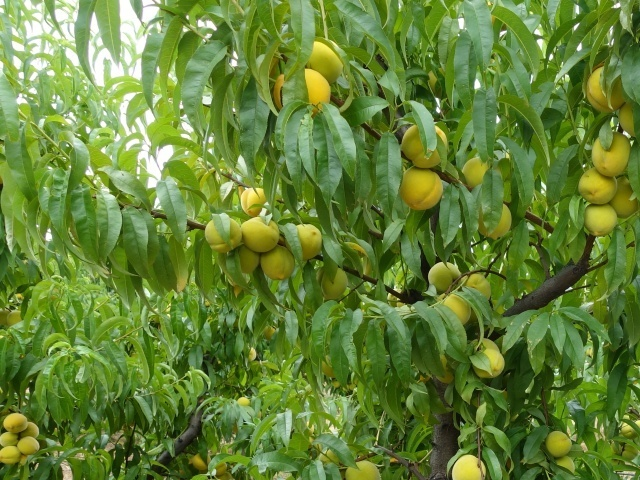peach: (269, 70, 335, 115), (399, 119, 452, 170), (583, 67, 628, 119), (400, 163, 445, 214), (591, 129, 635, 178), (304, 38, 345, 86), (576, 163, 621, 204), (475, 199, 516, 243), (199, 216, 245, 254), (580, 199, 621, 240), (239, 213, 282, 252), (284, 221, 325, 261), (259, 244, 298, 282), (457, 151, 494, 190), (435, 291, 476, 326), (611, 174, 640, 222), (426, 259, 464, 294), (468, 347, 506, 380), (449, 449, 489, 480), (459, 271, 494, 304), (544, 427, 575, 463), (616, 92, 640, 138), (318, 265, 350, 299), (230, 241, 263, 273), (343, 455, 384, 480), (238, 185, 271, 216), (467, 333, 502, 359), (552, 449, 580, 477), (205, 456, 233, 480), (1, 412, 30, 435), (13, 436, 41, 457), (187, 451, 211, 473), (18, 421, 42, 442), (1, 444, 19, 467)
